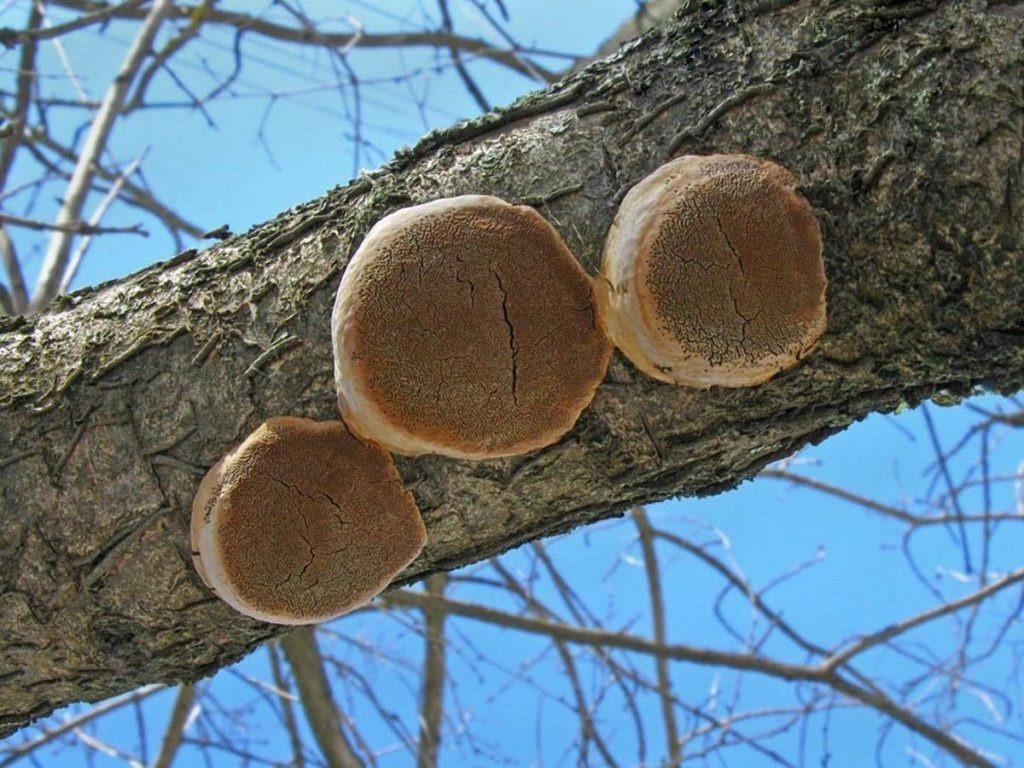Plum tinder fungus: (307, 193, 623, 454), (156, 403, 449, 626), (580, 147, 849, 377)
